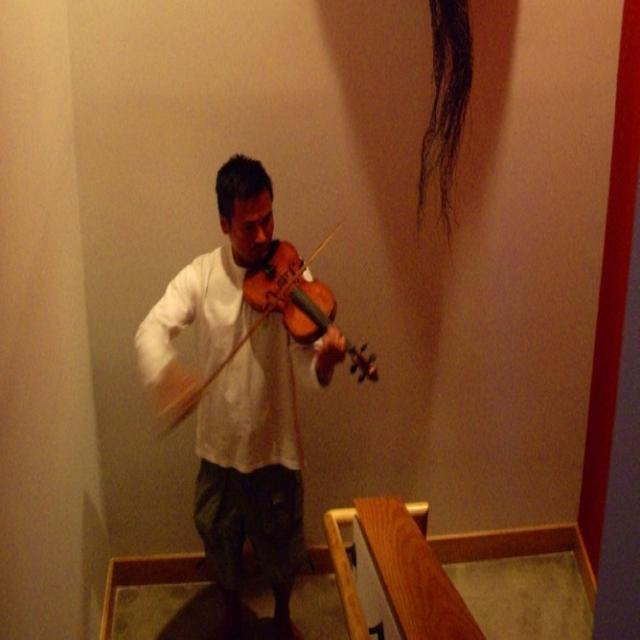violin: (241, 236, 380, 388)
